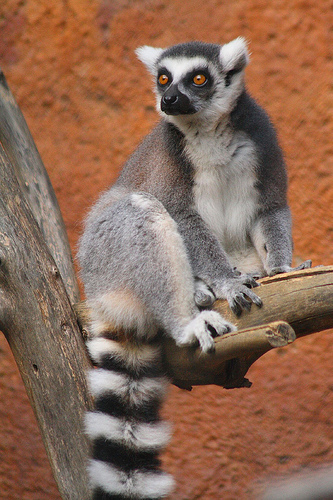cat: (75, 33, 314, 498)
